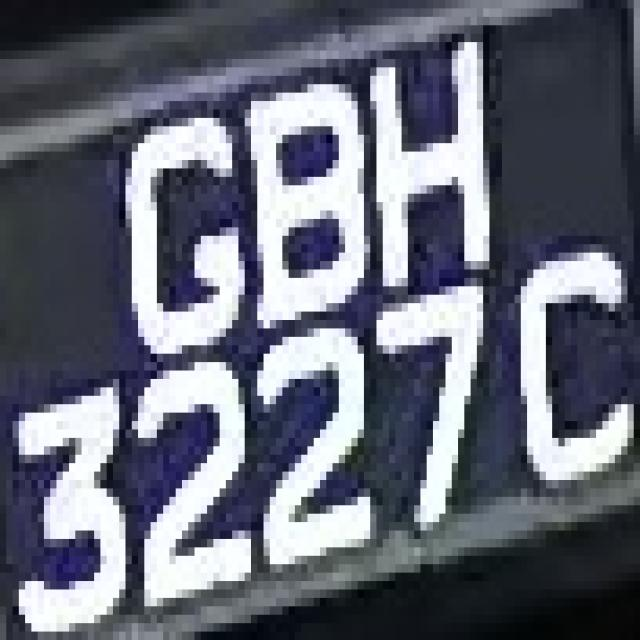2: (238, 312, 389, 590), (119, 370, 264, 598)
3: (6, 362, 144, 640)
7: (339, 261, 483, 514)
B: (251, 76, 383, 328)
C: (489, 227, 622, 488)
G: (106, 84, 238, 354)
H: (364, 33, 502, 294)
